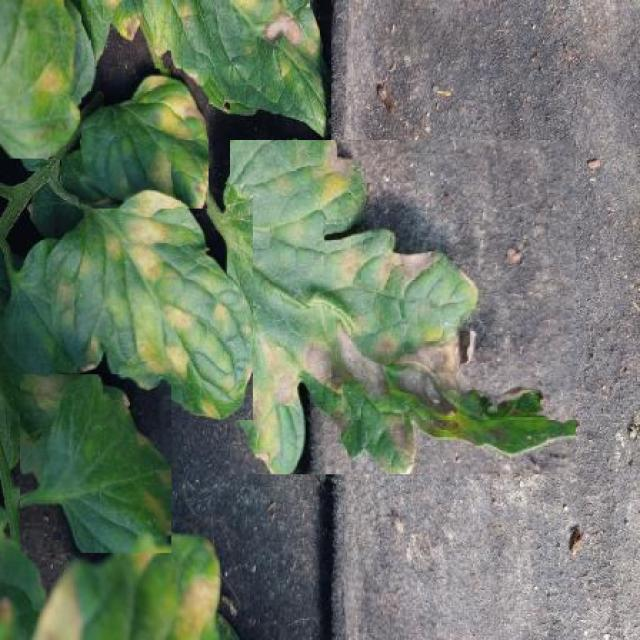Leaf Mold: (230, 140, 576, 474), (48, 184, 253, 420), (20, 374, 171, 553), (78, 69, 208, 208), (0, 0, 81, 158)
